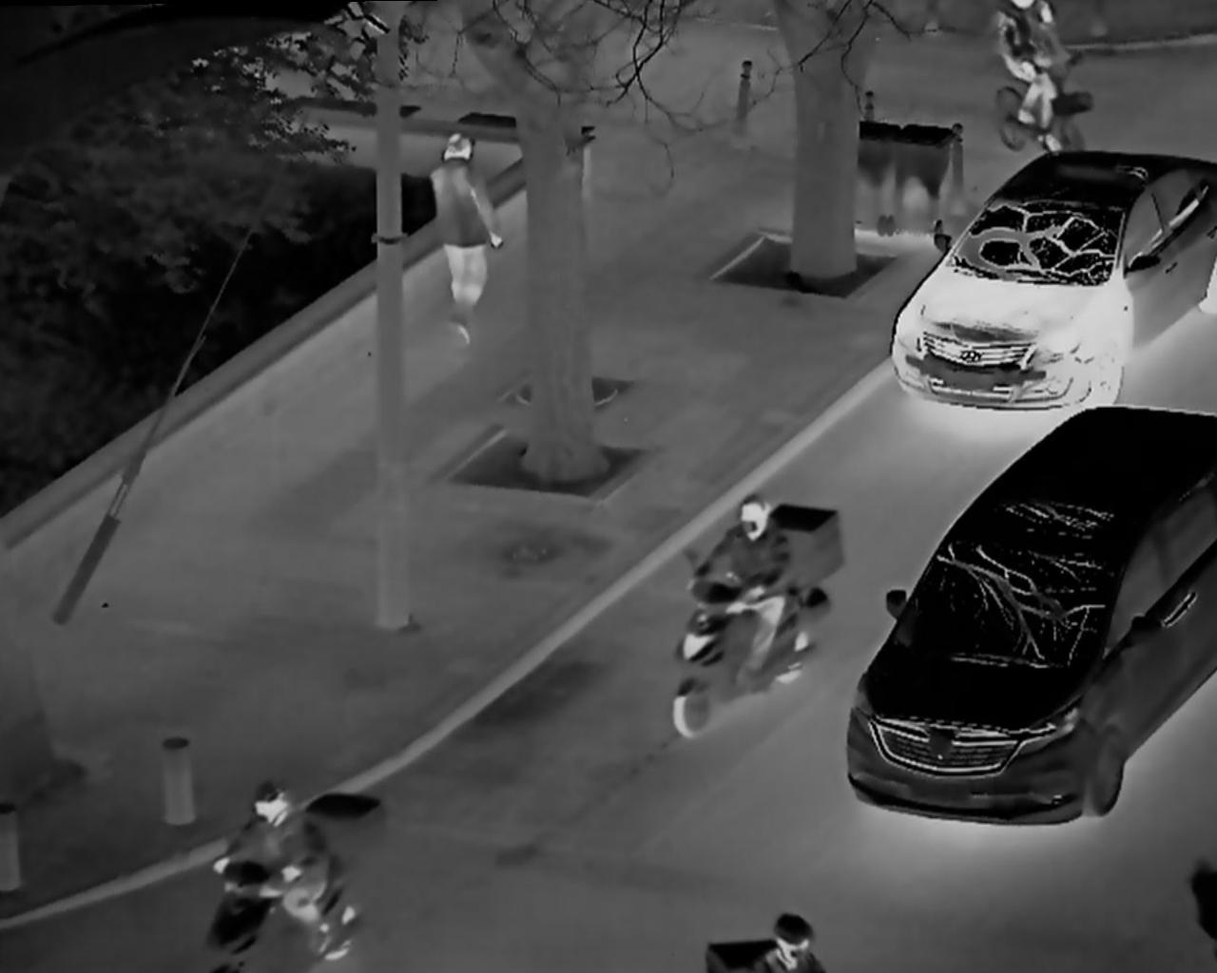person: (676, 472, 807, 707), (208, 769, 362, 952), (420, 128, 513, 349), (992, 9, 1087, 156), (747, 909, 836, 973)
